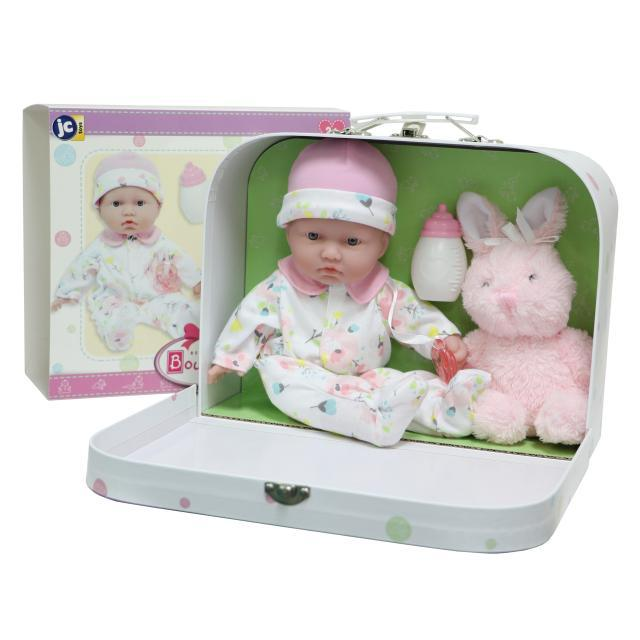soft-toy: (456, 188, 592, 444)
